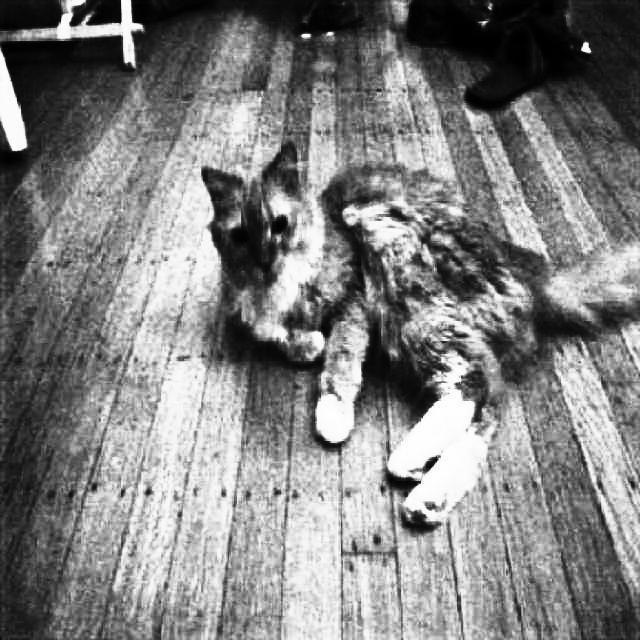Cat: (194, 142, 640, 533)
